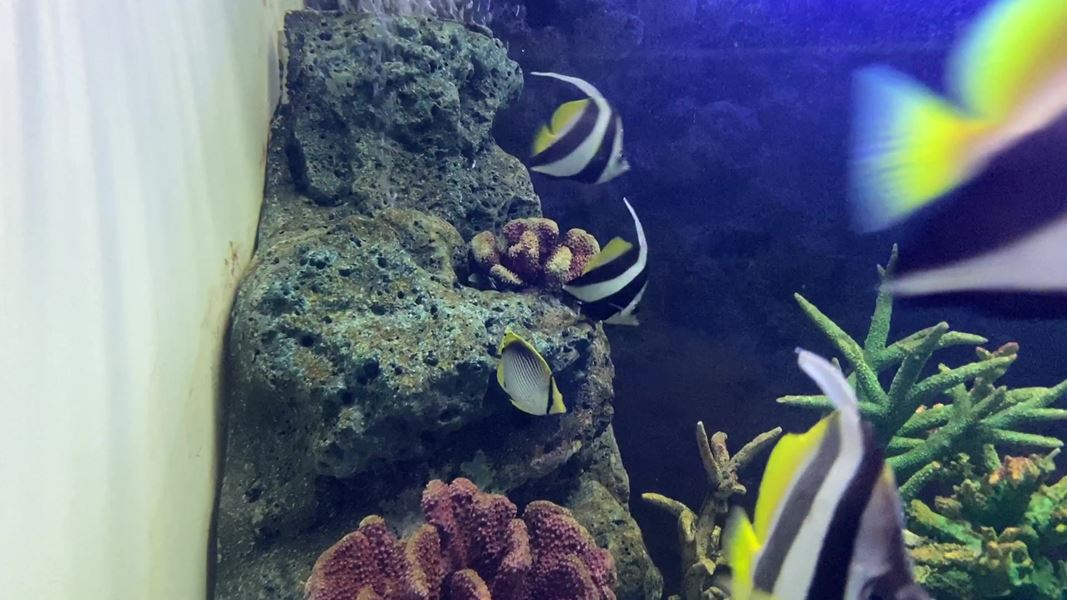Black-backed butterflyfish: (484, 318, 575, 423)
